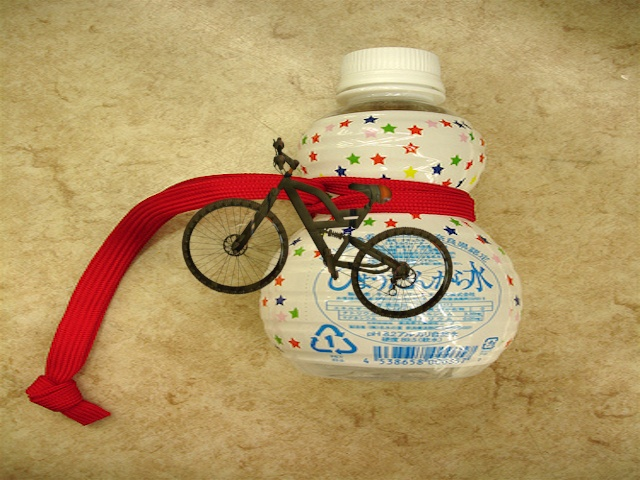bike: (177, 128, 464, 321)
